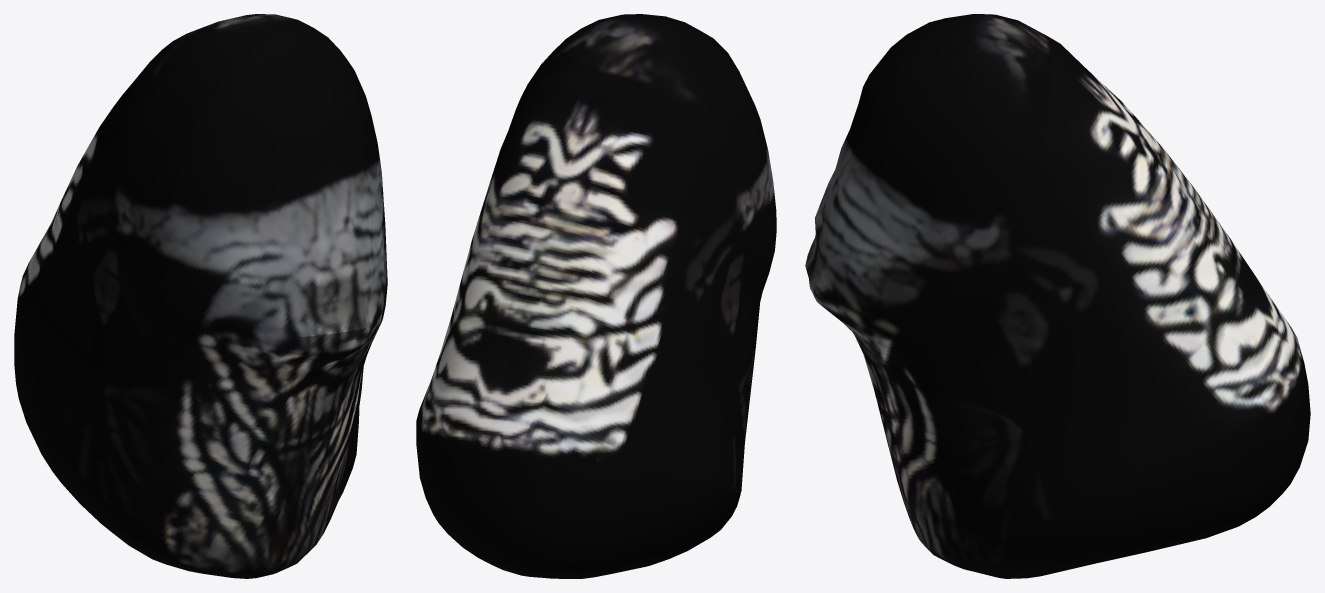
Rendered from xoloCuello.obj.
The picture shows the model from 3 angles, left to right: view 1: azimuth 30°, elevation 25°; view 2: azimuth 150°, elevation 25°; view 3: azimuth 270°, elevation 25°; orthographic projection. The views are drawn at different scales.
Visible parts, largest first — view 1: cuello; view 2: cuello; view 3: cuello.
Part boxes in pixels (bbox=[...]): cuello: bbox=[14, 14, 387, 578]; cuello: bbox=[416, 14, 776, 578]; cuello: bbox=[805, 14, 1310, 578].
Bounding box in the file's own units: 0.2322 × 0.4301 × 0.3634.
1 material, 1 textured.
